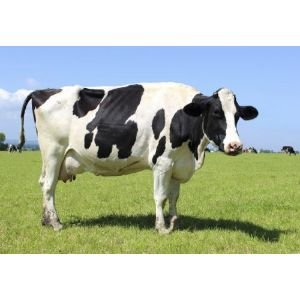cow: (15, 82, 260, 238)
